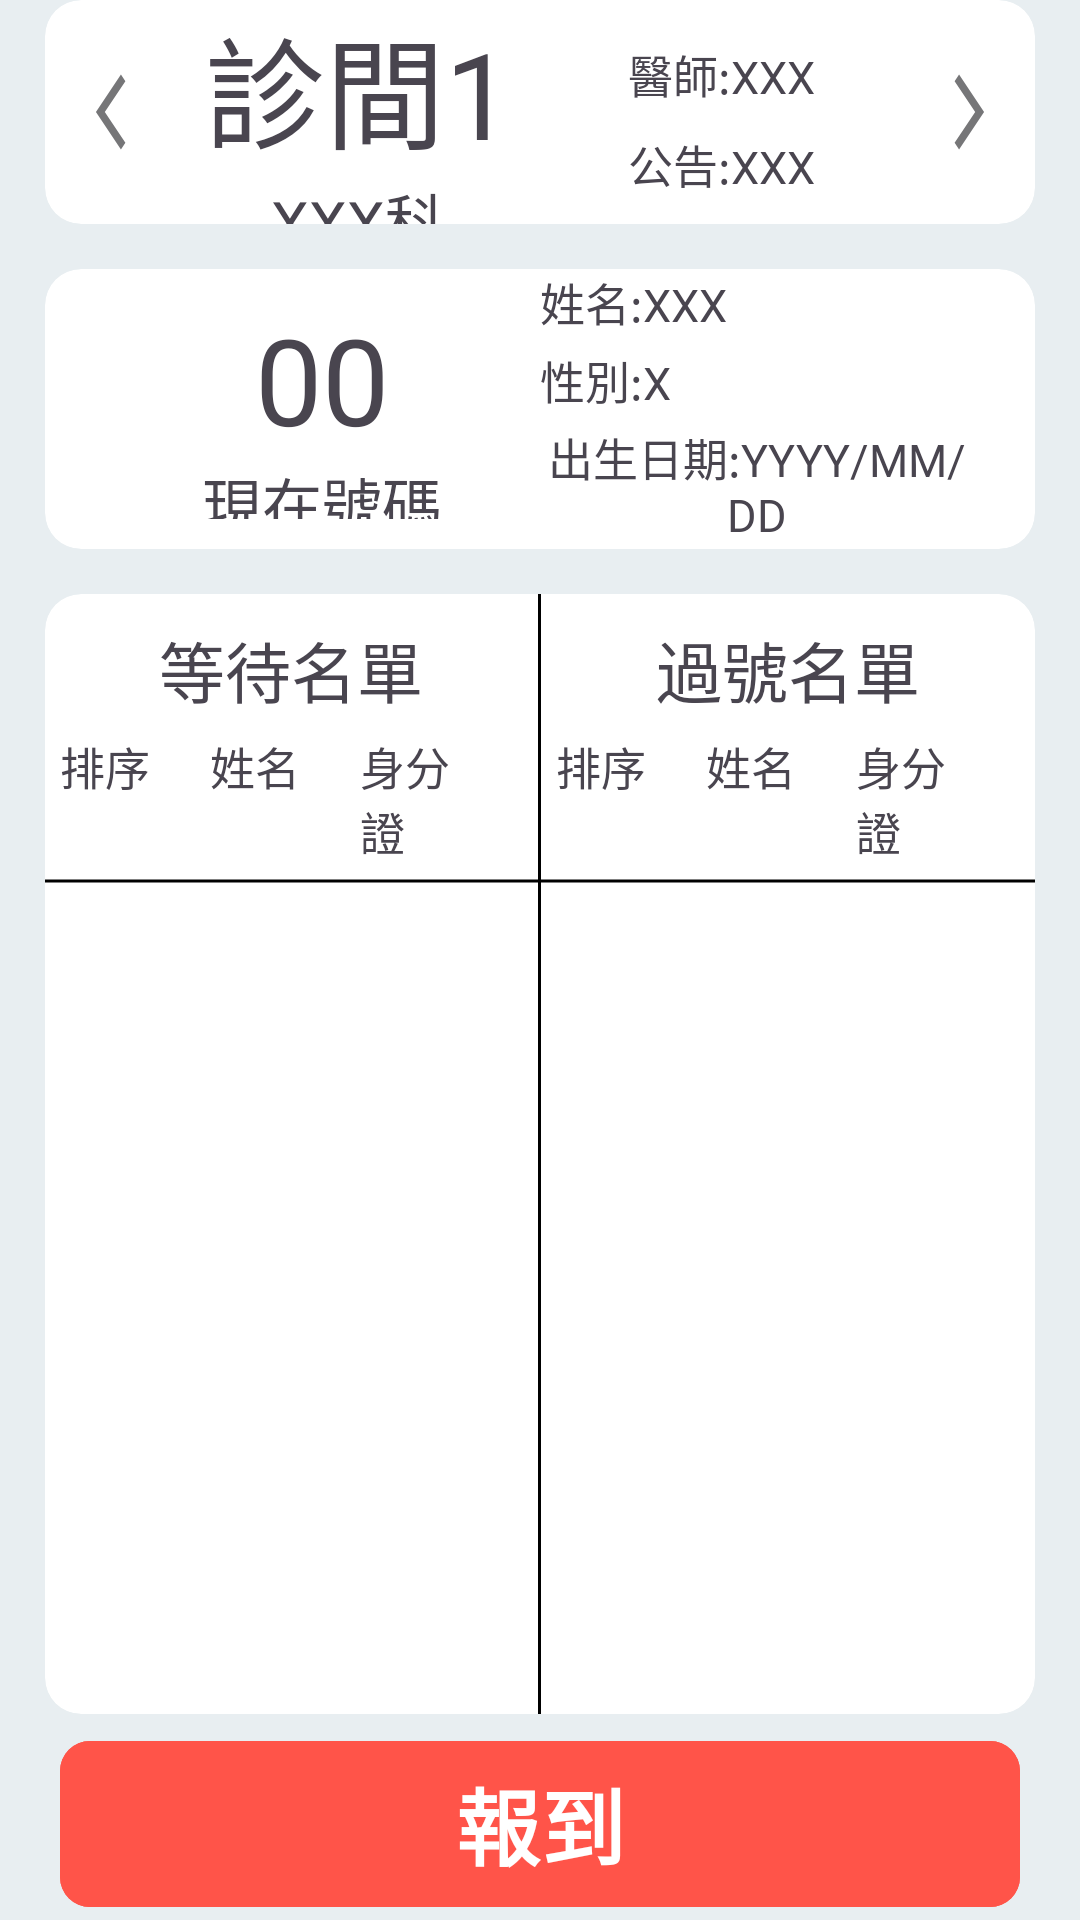

Screen size 1080 x 1920. Icon name, then its box in pixels as (x1, y1, x2, y2):
arrow left: (96, 75, 125, 149)
arrow right: (954, 75, 984, 149)
